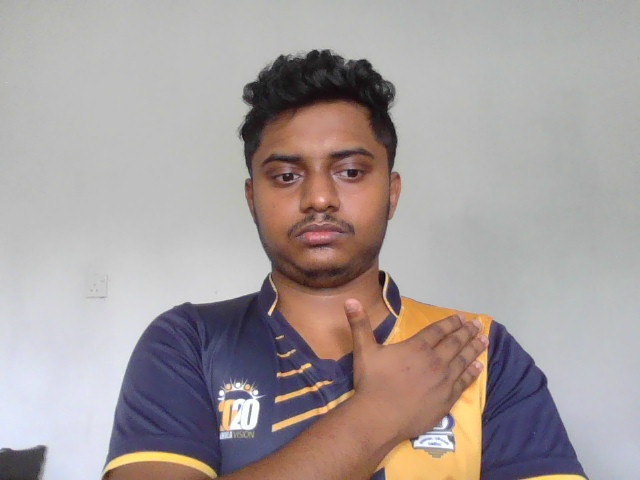Please: (337, 293, 487, 442)
